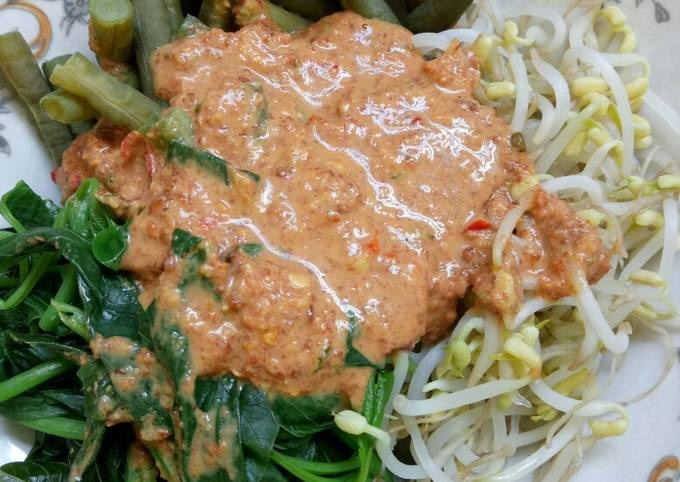pecel: (9, 8, 661, 447)
